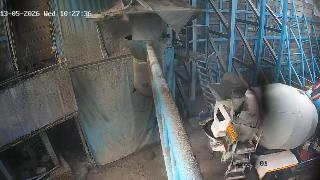cement_mixer_truck: (198, 82, 320, 180)
swing_chute: (125, 34, 170, 96)
